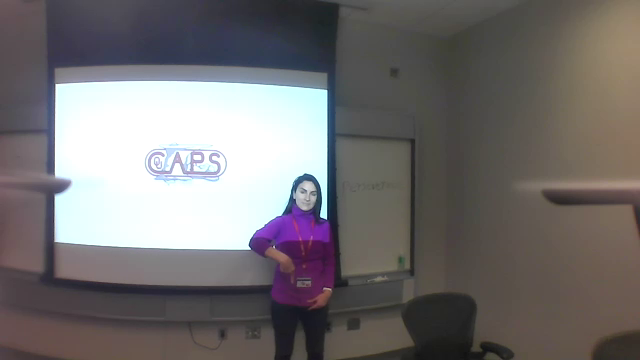down: (276, 251, 299, 289)
